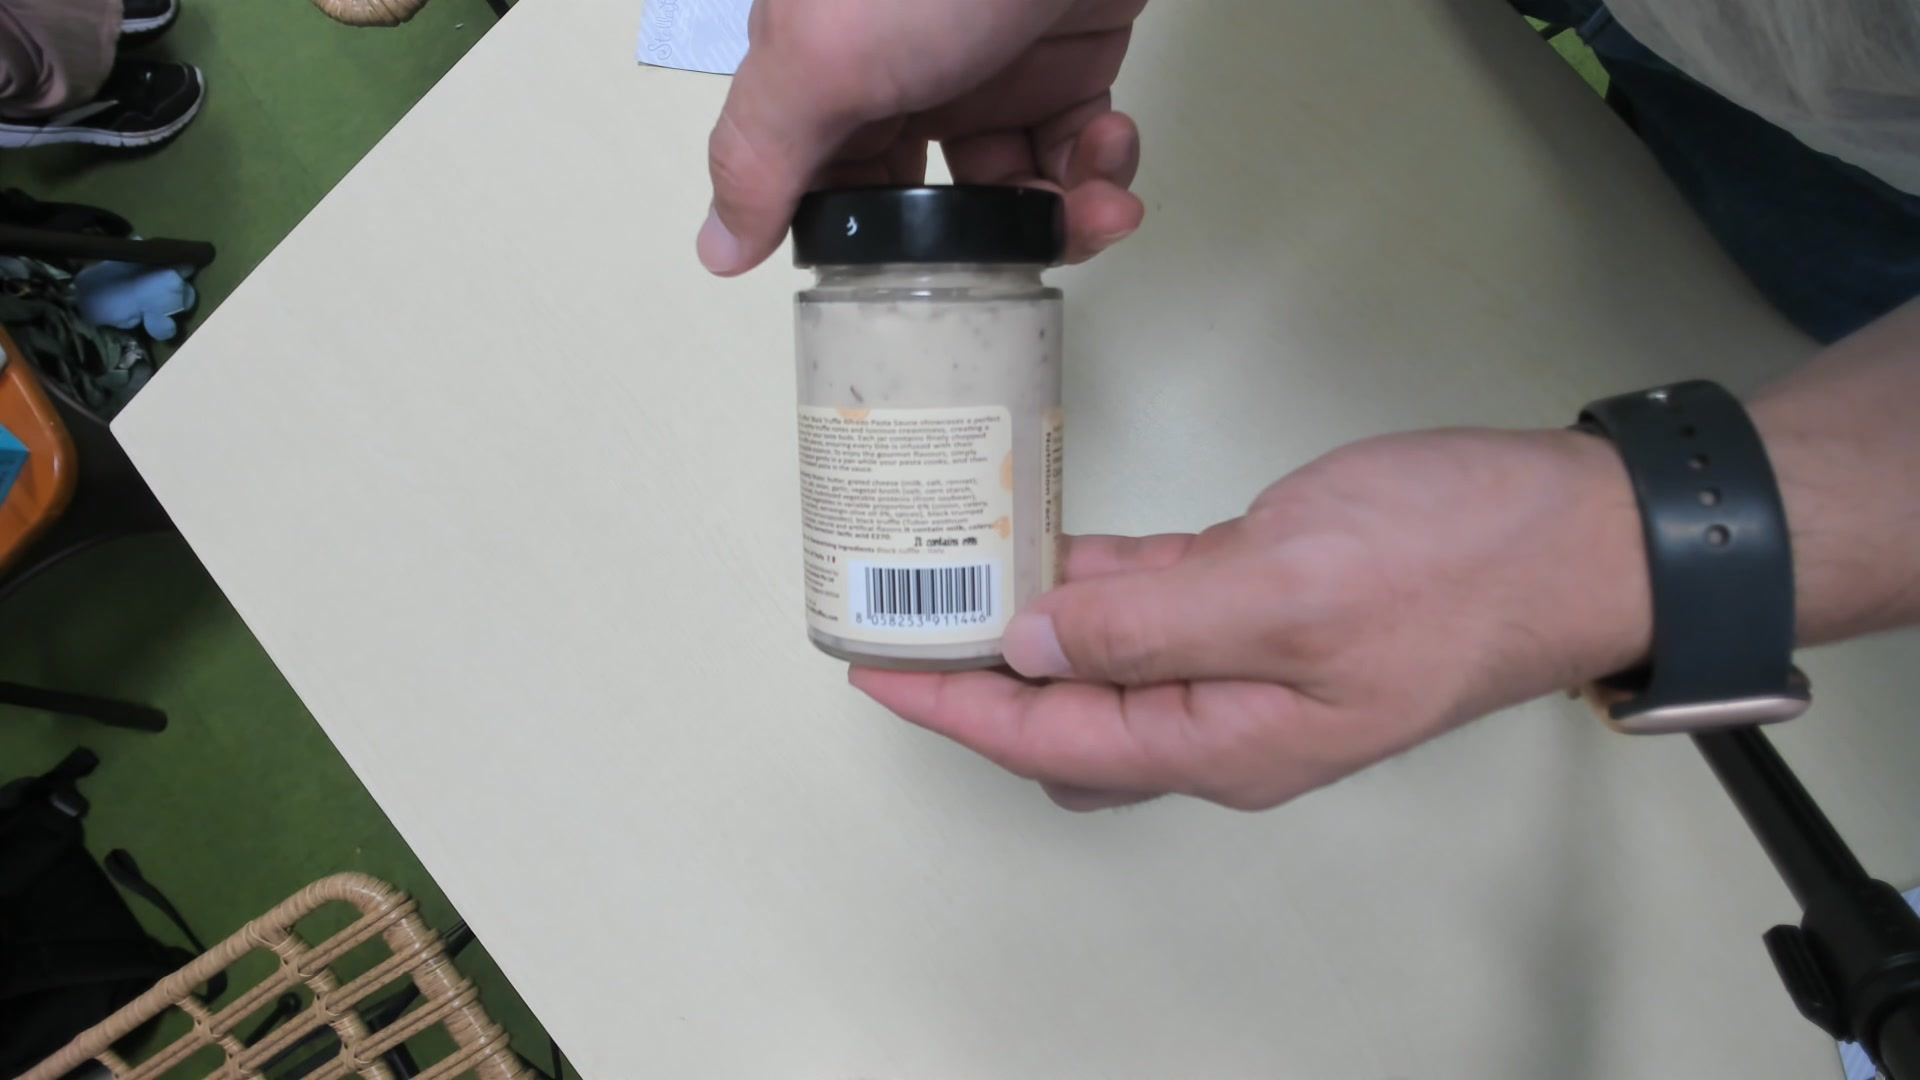PastaSauce_100-199g_Halal_NonHealthy: (786, 193, 1069, 678)
